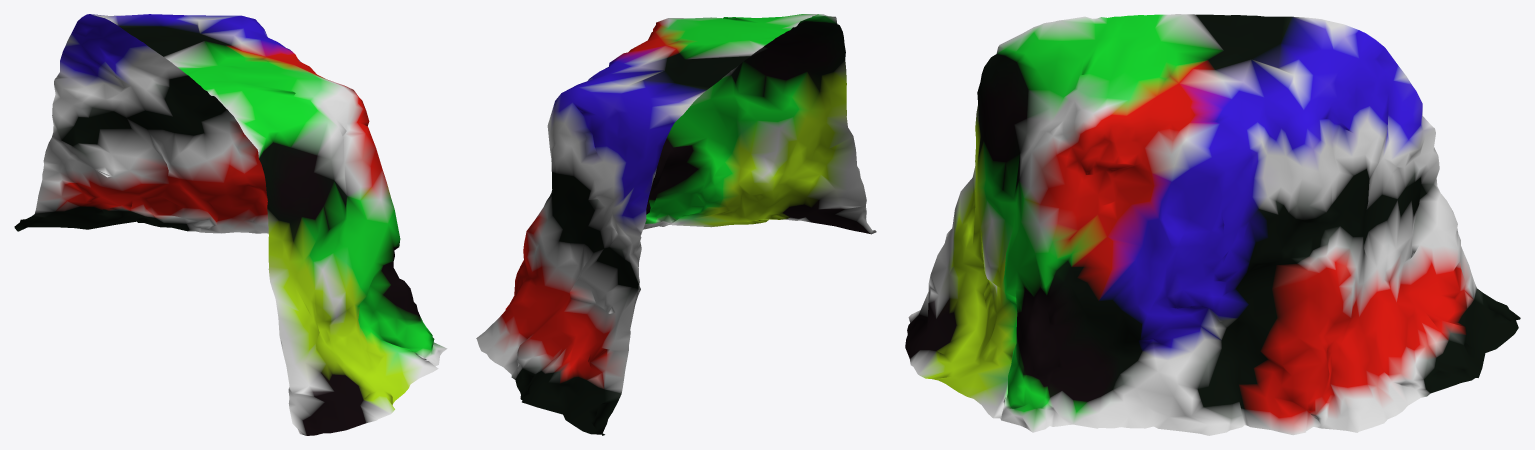
The model's file is cliff_painted.fbx.
The picture shows the model from 3 angles, left to right: view 1: azimuth 30°, elevation 25°; view 2: azimuth 150°, elevation 25°; view 3: azimuth 270°, elevation 25°; orthographic projection. The views are drawn at different scales.
Parts seen in each view (by area): view 1: cliff_lod0; view 2: cliff_lod0; view 3: cliff_lod0.
Boxes of the visible parts, x1=… form: cliff_lod0: x1=14, y1=14, x2=447, y2=435; cliff_lod0: x1=476, y1=14, x2=876, y2=435; cliff_lod0: x1=905, y1=14, x2=1520, y2=435.
Bounding box in the file's own units: 545 × 699 × 1259.
